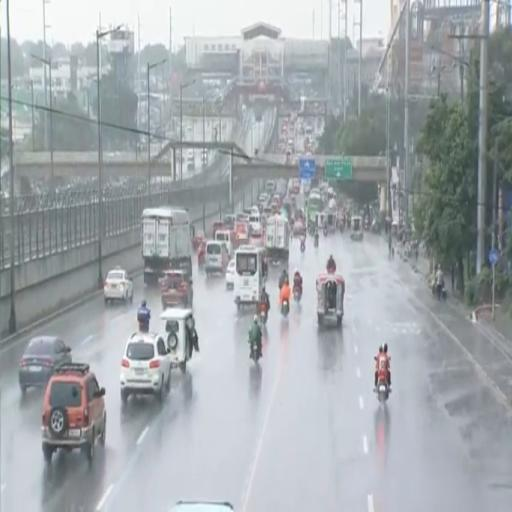car: (42, 363, 106, 462), (120, 332, 170, 404), (19, 336, 71, 393), (160, 269, 193, 309), (104, 267, 133, 303), (171, 502, 234, 511), (226, 260, 235, 290), (294, 219, 305, 235)
motorcycle: (375, 370, 390, 403), (376, 375, 390, 403), (250, 342, 261, 363), (260, 303, 267, 325), (294, 286, 302, 302), (198, 252, 205, 269), (282, 300, 289, 317), (138, 322, 148, 332), (327, 266, 336, 275), (300, 239, 305, 252), (314, 235, 318, 248), (324, 226, 327, 236)
truck: (142, 207, 191, 285), (265, 215, 290, 262)
